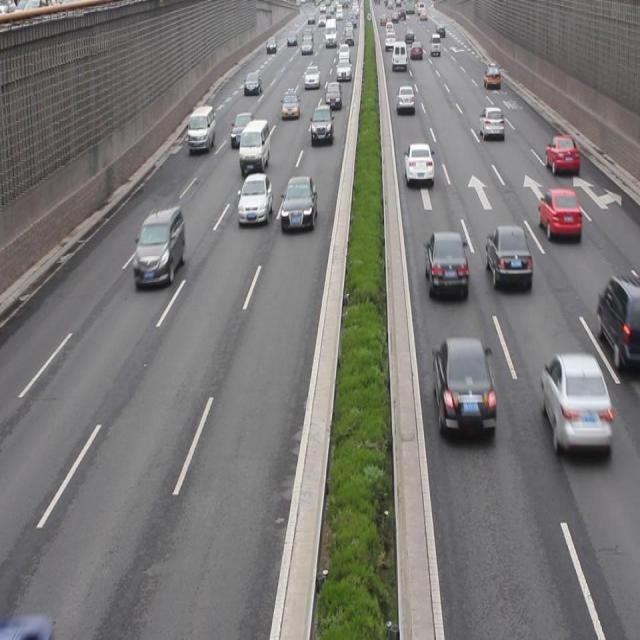car: (540, 352, 611, 461), (431, 336, 495, 444), (596, 272, 640, 373), (133, 209, 183, 286), (422, 228, 469, 304), (484, 224, 532, 290), (538, 189, 581, 244), (280, 176, 317, 231), (238, 171, 272, 225), (543, 132, 578, 176), (402, 140, 434, 187), (478, 106, 503, 142), (310, 106, 333, 145), (230, 112, 254, 145)
truck: (239, 120, 269, 170), (188, 105, 214, 151)
